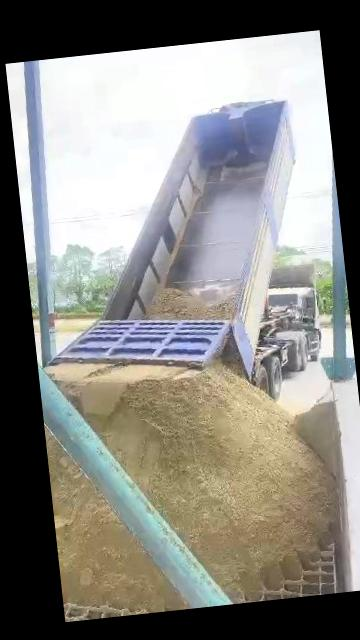sand: (49, 362, 335, 591), (47, 435, 184, 612), (295, 398, 340, 478), (146, 288, 234, 319), (221, 338, 241, 375)
